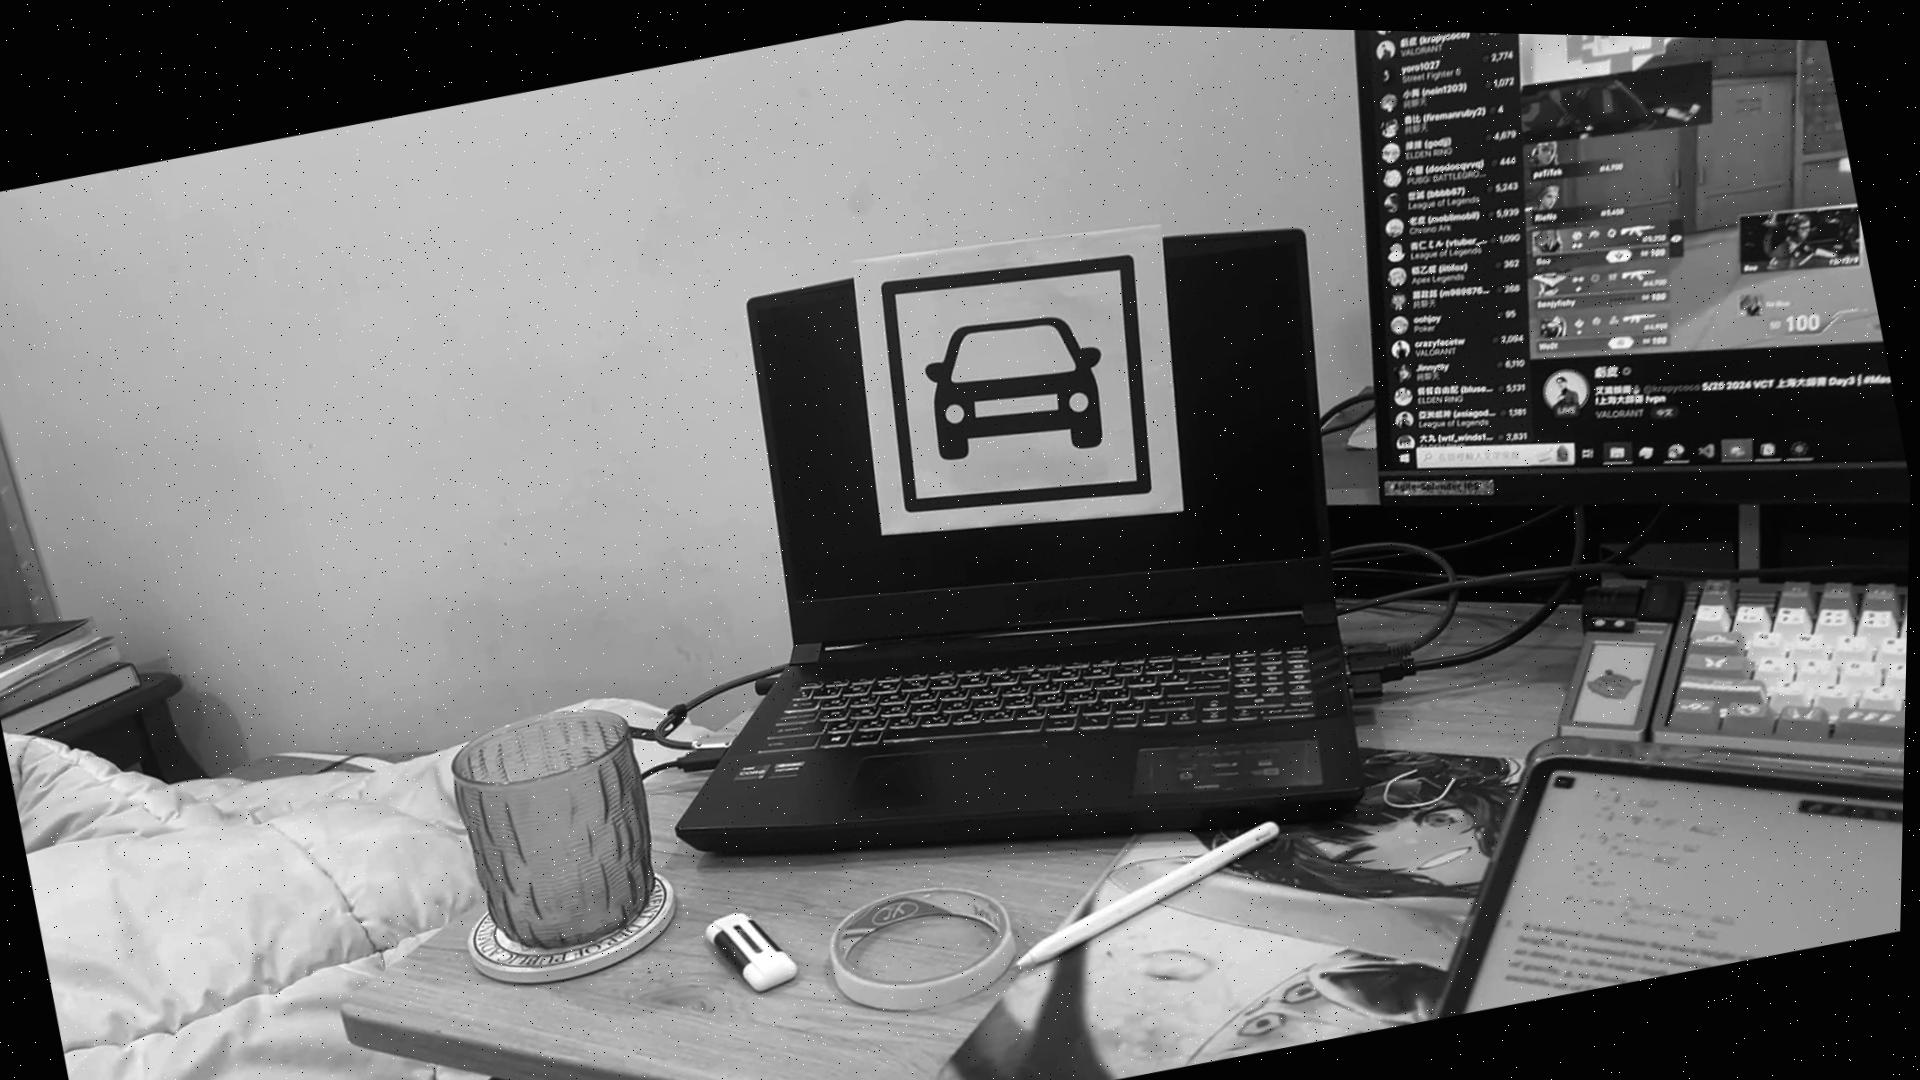car_img: (858, 223, 1184, 539)
